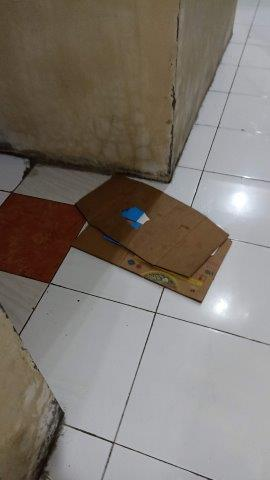kardus: (74, 174, 232, 296)
